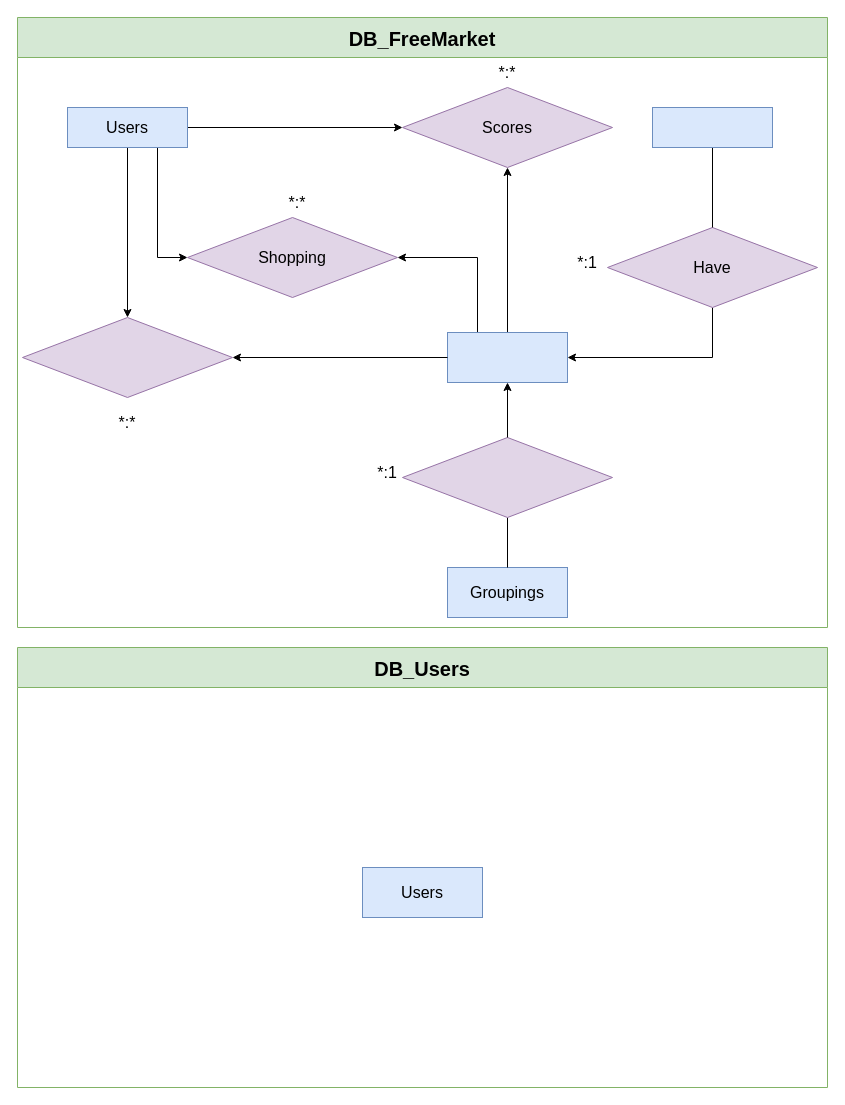
Some shapes in this 845 by 1105 pixel diagram are drawn without their labels. Each missing label, with the centre of its shape:
Can take: the point at 507,477
Enterprises: the point at 712,127
Products: the point at 507,357
Questions: the point at 127,357
